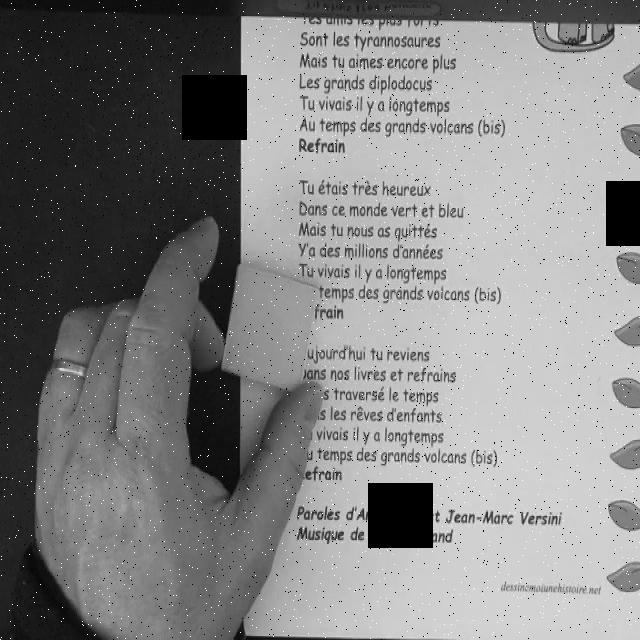square: (221, 262, 321, 396)
